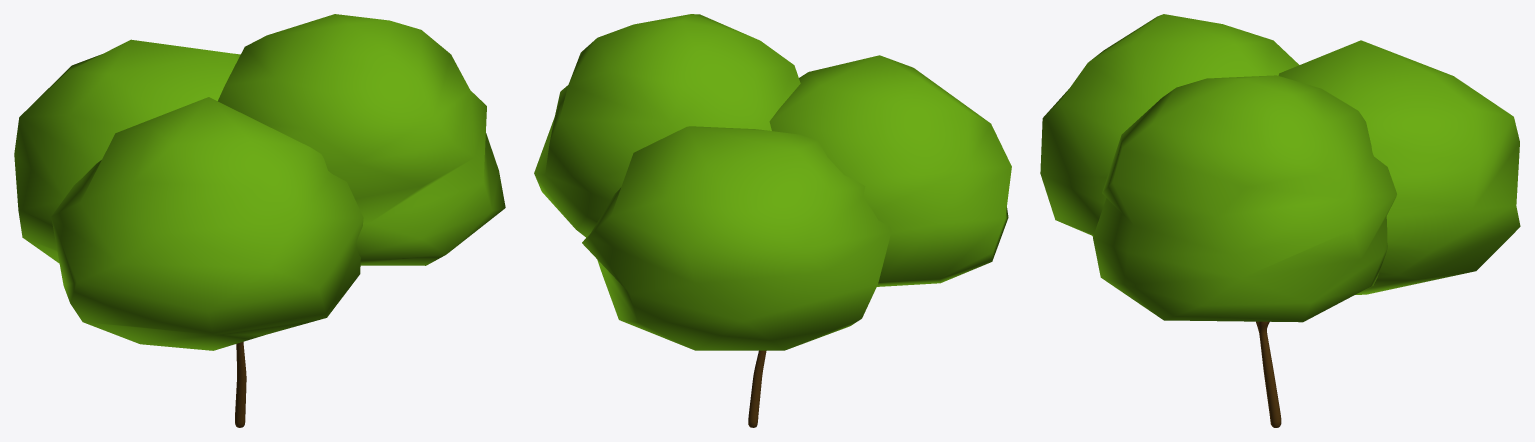
The model's file is RoundTreeMK3.fbx.
The picture shows the model from 3 angles, left to right: view 1: azimuth 30°, elevation 25°; view 2: azimuth 150°, elevation 25°; view 3: azimuth 270°, elevation 25°; orthographic projection. The views are drawn at different scales.
Parts seen in each view (by area): view 1: LeavesMK2, LeavesMK5, LeavesMK4, Cube; view 2: LeavesMK4, LeavesMK2, LeavesMK5, Cube; view 3: LeavesMK5, LeavesMK4, LeavesMK2, Cube.
Boxes of the visible parts, x1=… form: LeavesMK2: x1=51, y1=97, x2=363, y2=350; LeavesMK5: x1=218, y1=14, x2=505, y2=265; LeavesMK4: x1=14, y1=39, x2=240, y2=263; Cube: x1=235, y1=342, x2=246, y2=427; LeavesMK4: x1=582, y1=126, x2=891, y2=350; LeavesMK2: x1=769, y1=55, x2=1011, y2=286; LeavesMK5: x1=534, y1=14, x2=800, y2=237; Cube: x1=748, y1=350, x2=766, y2=427; LeavesMK5: x1=1093, y1=75, x2=1396, y2=322; LeavesMK4: x1=1278, y1=40, x2=1520, y2=294; LeavesMK2: x1=1040, y1=14, x2=1299, y2=236; Cube: x1=1256, y1=321, x2=1281, y2=427.
Size of the model in its own units: 2842 by 2425 by 2683.
